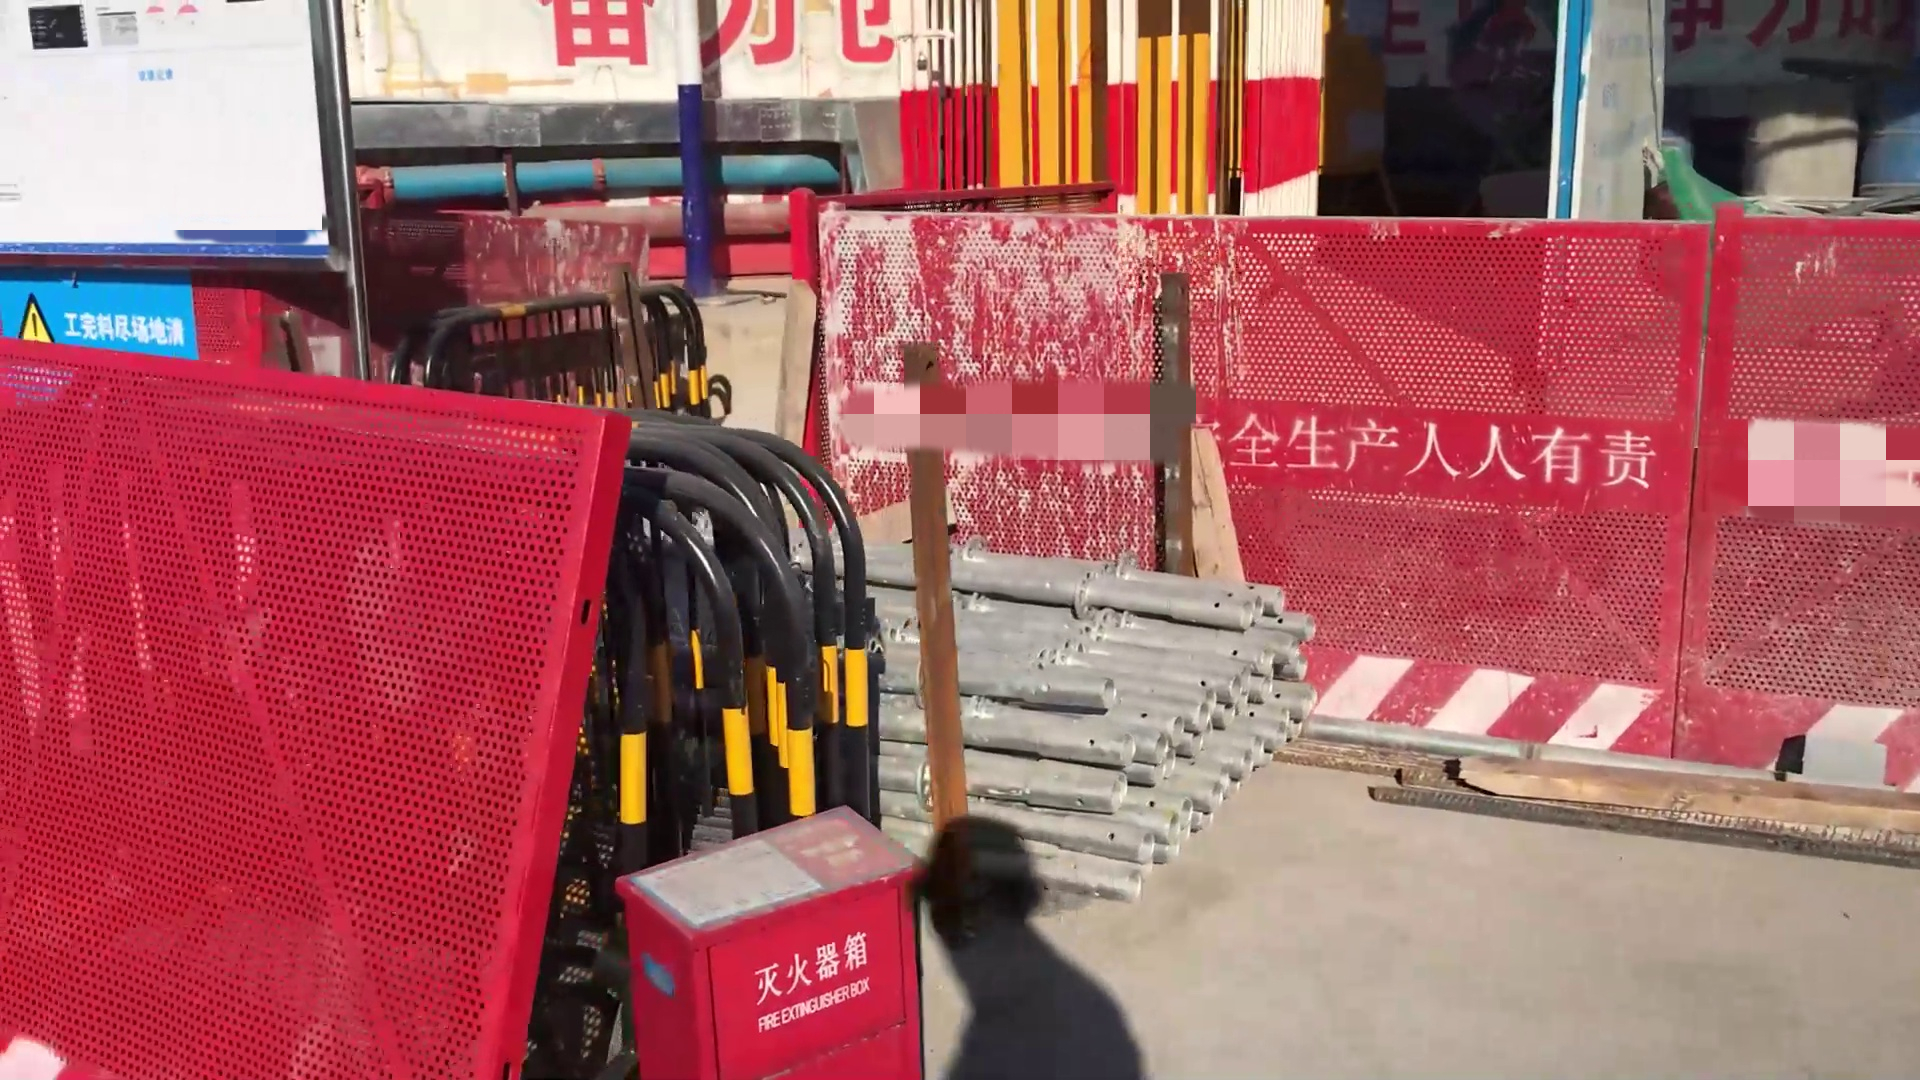fence: (1, 345, 636, 1080), (829, 196, 1697, 580), (1663, 204, 1920, 791), (582, 392, 877, 833), (981, 1, 1244, 215)
scaffold: (861, 524, 1323, 934)
